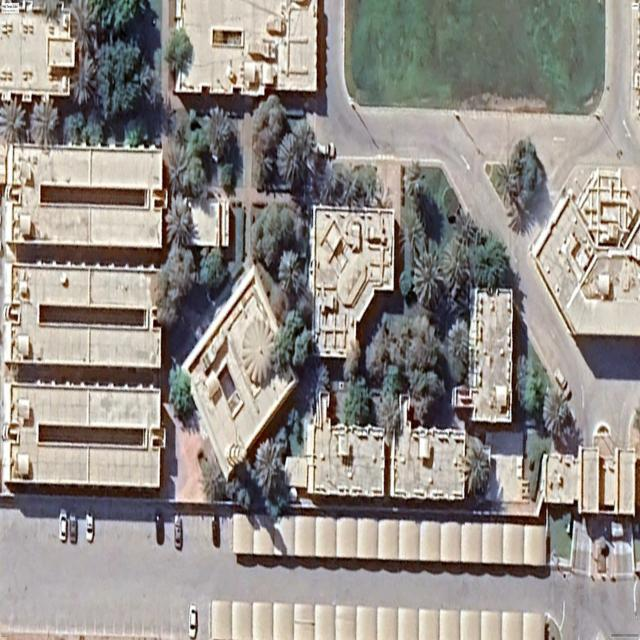mosque: (182, 264, 297, 479)
